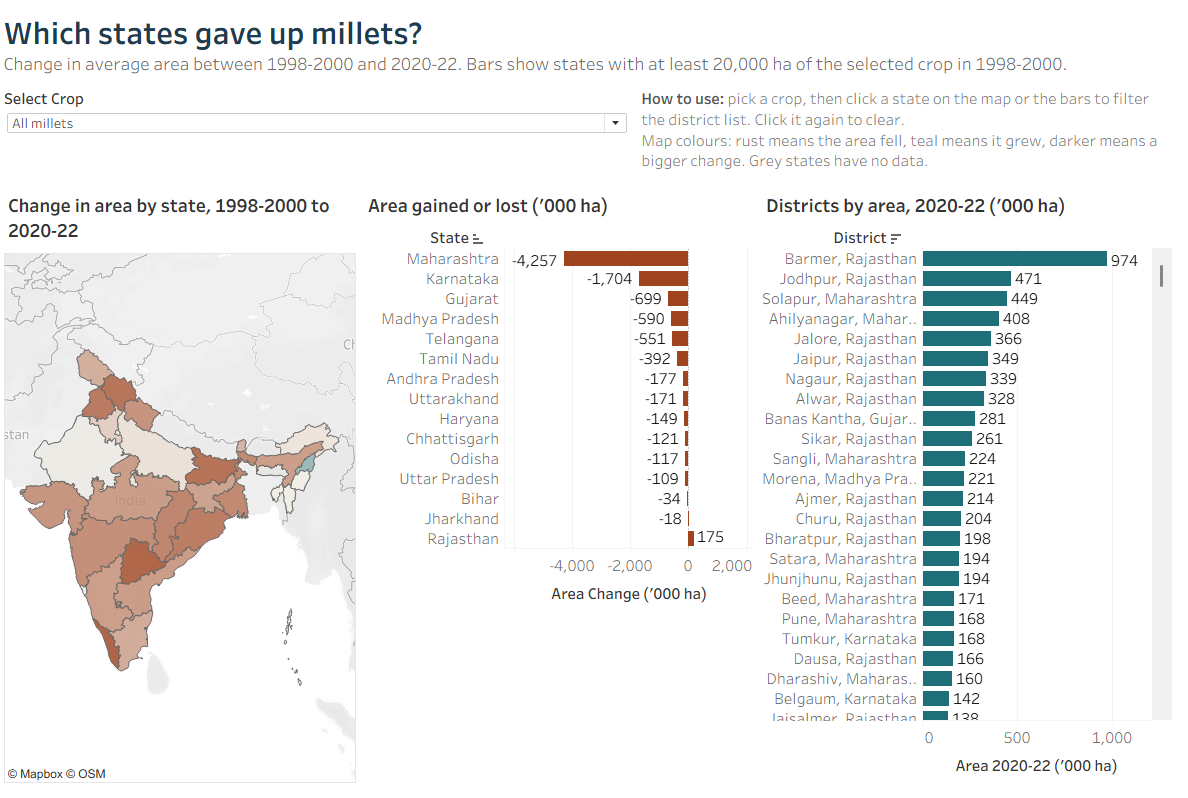

Layout of this report page (visuals, bound fields, positions):
{"tool":"tableau","page":{"name":"States","canvas":[1200,800],"ordinal":1},"visuals":[{"type":"text","box":[0,0,1200,76]},{"type":"parameter","param":"[Parameters].[Select Crop]","box":[0,76,300,64]},{"type":"text","box":[300,76,900,64]},{"type":"worksheet","title":"State Map","mark":"Multipolygon","box":[0,140,456,660]},{"type":"worksheet","title":"States Ranked","mark":"Bar","rows":["state"],"cols":["Area Change k"],"box":[456,140,372,660]},{"type":"worksheet","title":"Top Districts","mark":"Bar","rows":["District Label"],"cols":["Area End k"],"box":[828,140,372,660]}]}

Visuals, with their boxes in screenshot pixels (x1, y1, x2, y2), scaled from the page's 1200x800 canvas onto the 1188x798 screenshot:
text: rect(0, 0, 1187, 76)
parameter: rect(0, 76, 297, 140)
text: rect(297, 76, 1187, 140)
"State Map" worksheet (Multipolygon marks): rect(0, 140, 451, 797)
"States Ranked" worksheet (Bar marks): rect(451, 140, 820, 797)
"Top Districts" worksheet (Bar marks): rect(820, 140, 1187, 797)
